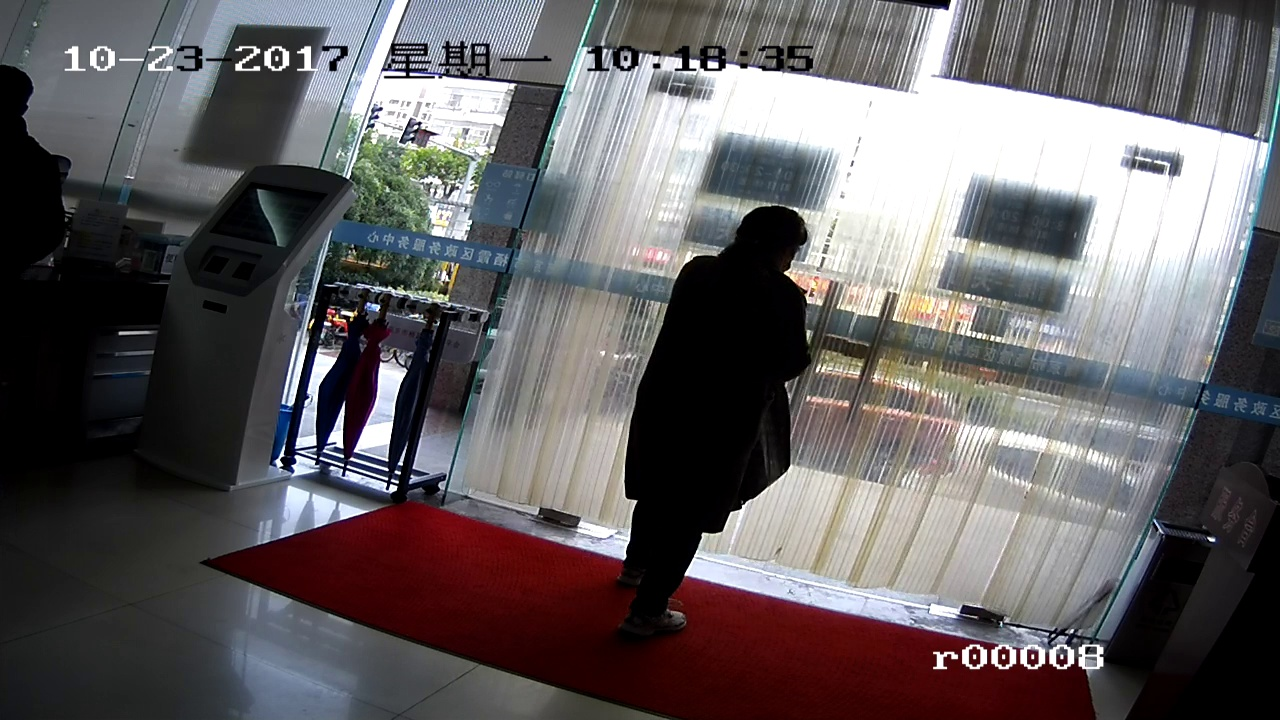monitor: (220, 178, 314, 248)
person: (626, 185, 802, 650)
